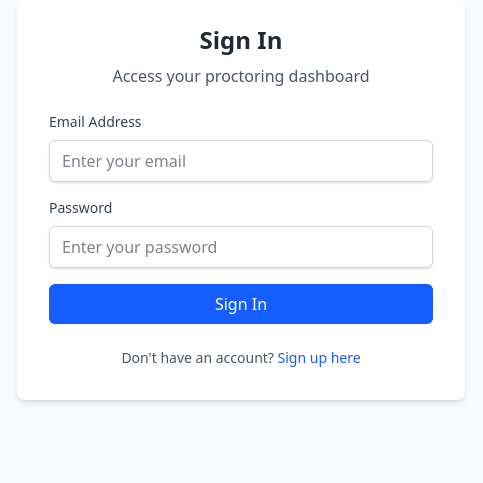
Scenario: LoginForm › handles login failure
The image size is (483, 483).
Fill form with valid data
In the field labelled "Email Address": (241, 161) x1=49 y1=140 x2=433 y2=182, type "test@example.com"
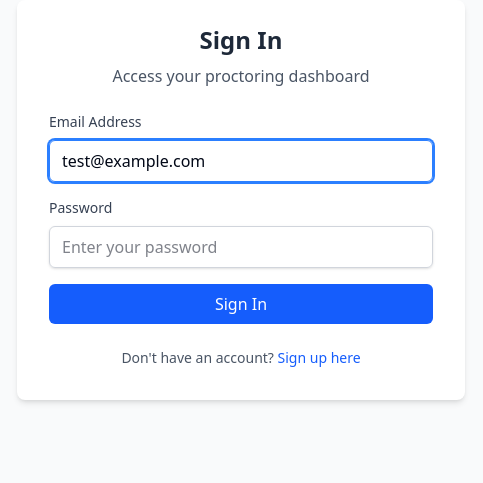
In the password field labelled "Password": (241, 247) x1=49 y1=226 x2=433 y2=268, type "wrongpassword"
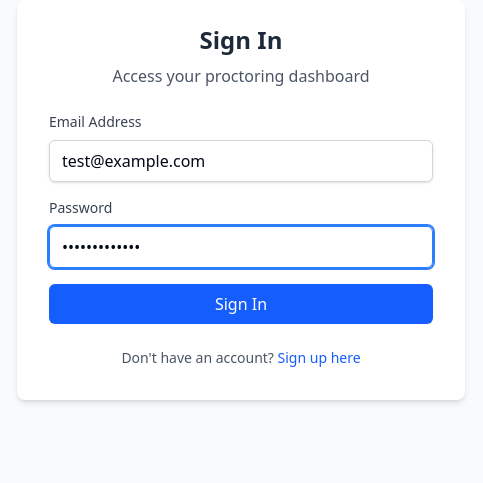
Submit form
Click the button "Sign In": (241, 304) x1=49 y1=284 x2=433 y2=324
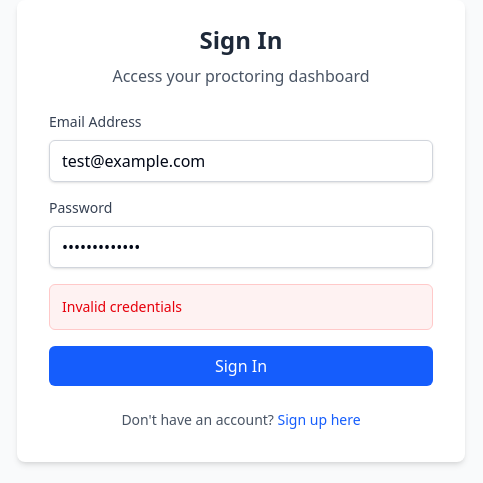
Expected: the text "Invalid credentials" is shown, x1=62 y1=297 x2=182 y2=316
